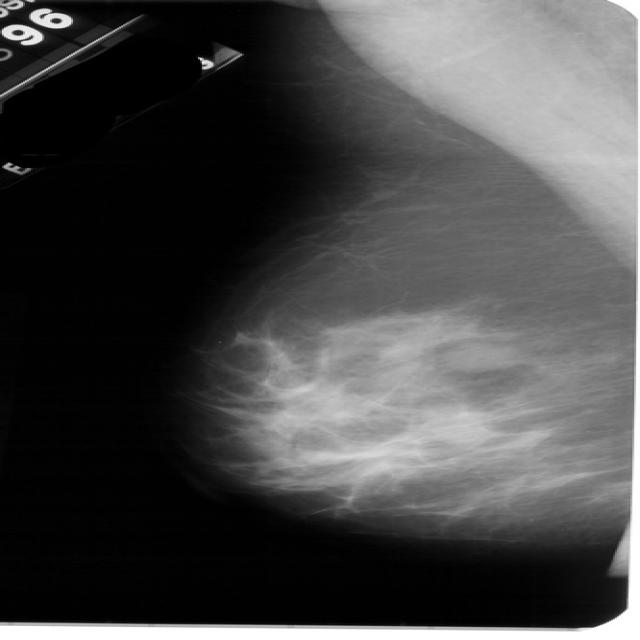tumour: (440, 341, 521, 372)
